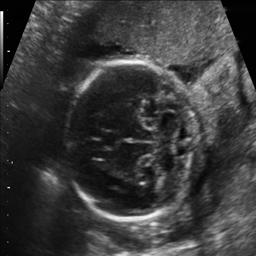normal: (59, 52, 202, 226)
